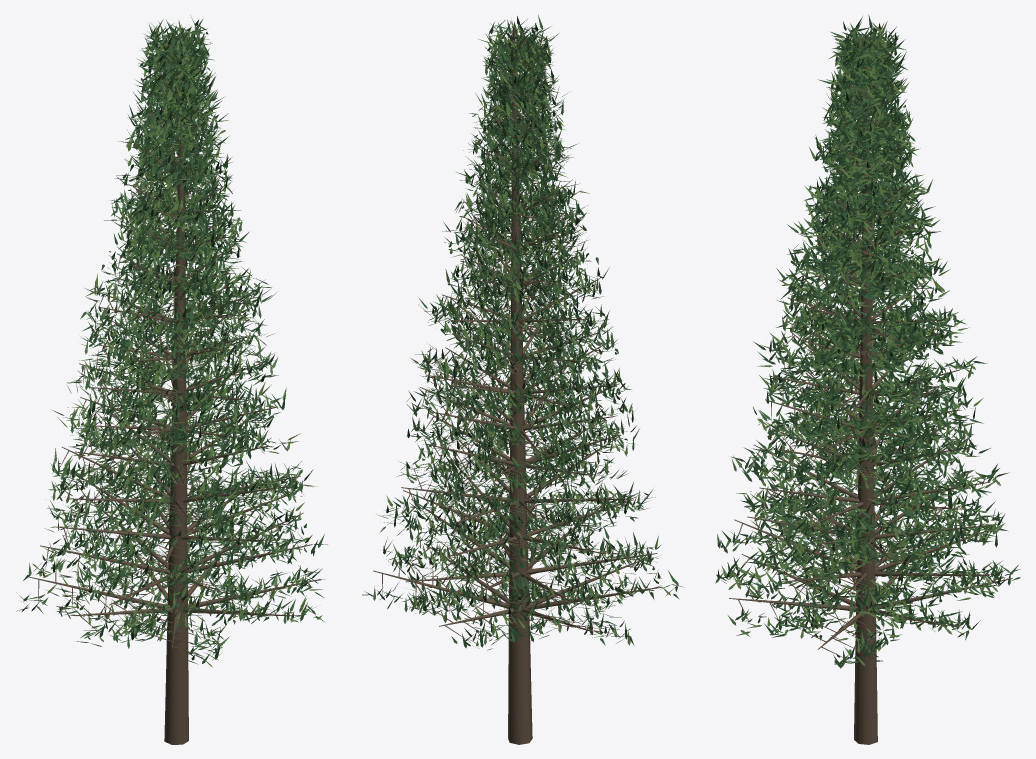
The model's file is forest-fir.glb.
The picture shows the model from 3 angles, left to right: view 1: azimuth 30°, elevation 25°; view 2: azimuth 150°, elevation 25°; view 3: azimuth 270°, elevation 25°; orthographic projection.
Visible parts, largest first — view 1: Foliage • mid, Foliage • sun, Foliage • shade, Bark • fir; view 2: Foliage • mid, Foliage • sun, Foliage • shade, Bark • fir; view 3: Foliage • sun, Foliage • shade, Foliage • mid, Bark • fir.
Part boxes in pixels (x1,y1,x2,y2): Foliage • mid: [28, 18, 327, 660]; Foliage • sun: [16, 15, 322, 667]; Foliage • shade: [16, 19, 325, 664]; Bark • fir: [29, 28, 320, 744]; Foliage • mid: [362, 15, 683, 650]; Foliage • sun: [373, 20, 670, 648]; Foliage • shade: [364, 20, 677, 648]; Bark • fir: [373, 27, 662, 744]; Foliage • sun: [715, 21, 1020, 665]; Foliage • shade: [716, 15, 1010, 667]; Foliage • mid: [717, 21, 1020, 668]; Bark • fir: [729, 34, 1012, 744].
Bounding box in the file's own units: 6.31 × 15.72 × 6.08.
